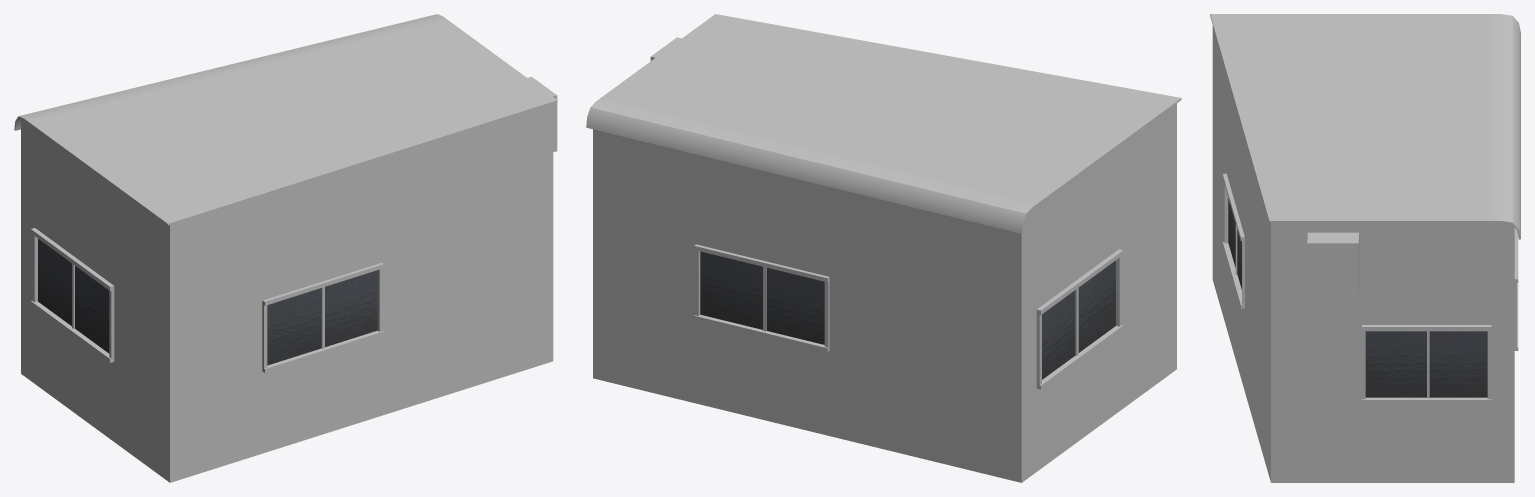
The model's file is apart_poor_13a.fbx.
3 views of the same model, side by side, from view 1: azimuth 30°, elevation 25°; view 2: azimuth 150°, elevation 25°; view 3: azimuth 270°, elevation 25° (orthographic). The views are drawn at different scales.
Visible parts, largest first — view 1: apart_poor_13a; view 2: apart_poor_13a; view 3: apart_poor_13a.
Part boxes in pixels (<box>): apart_poor_13a: <box>14,14,557,482</box>; apart_poor_13a: <box>586,14,1181,482</box>; apart_poor_13a: <box>1210,14,1520,482</box>.
Bounding box in the file's own units: 6.07 × 3.45 × 3.69.
